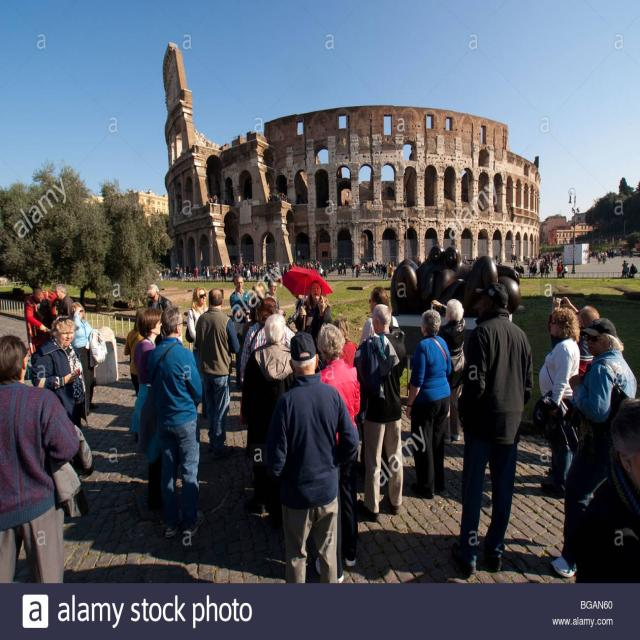body: (450, 282, 534, 574), (551, 317, 637, 578), (265, 330, 353, 584), (0, 334, 81, 584), (146, 304, 205, 538), (240, 312, 299, 520), (575, 397, 640, 583), (316, 322, 362, 582), (355, 302, 407, 525), (406, 308, 453, 503), (536, 306, 582, 502), (194, 287, 241, 457), (30, 316, 87, 434), (156, 255, 394, 280), (427, 298, 467, 446), (129, 305, 163, 450), (240, 296, 291, 387), (70, 301, 108, 416), (549, 296, 601, 378), (293, 280, 333, 374), (583, 234, 640, 280), (494, 243, 568, 278), (358, 286, 401, 346), (23, 286, 57, 356), (123, 308, 146, 399), (187, 286, 209, 372), (332, 317, 359, 368), (229, 274, 250, 324), (54, 283, 74, 321), (146, 282, 172, 310), (292, 293, 308, 333), (264, 278, 280, 314), (266, 184, 294, 204), (201, 192, 238, 207), (251, 282, 267, 297), (461, 252, 478, 265), (414, 254, 429, 266), (338, 198, 352, 206)
